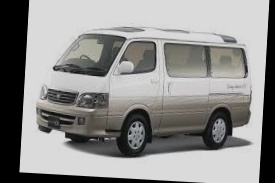van: (35, 20, 257, 148)
